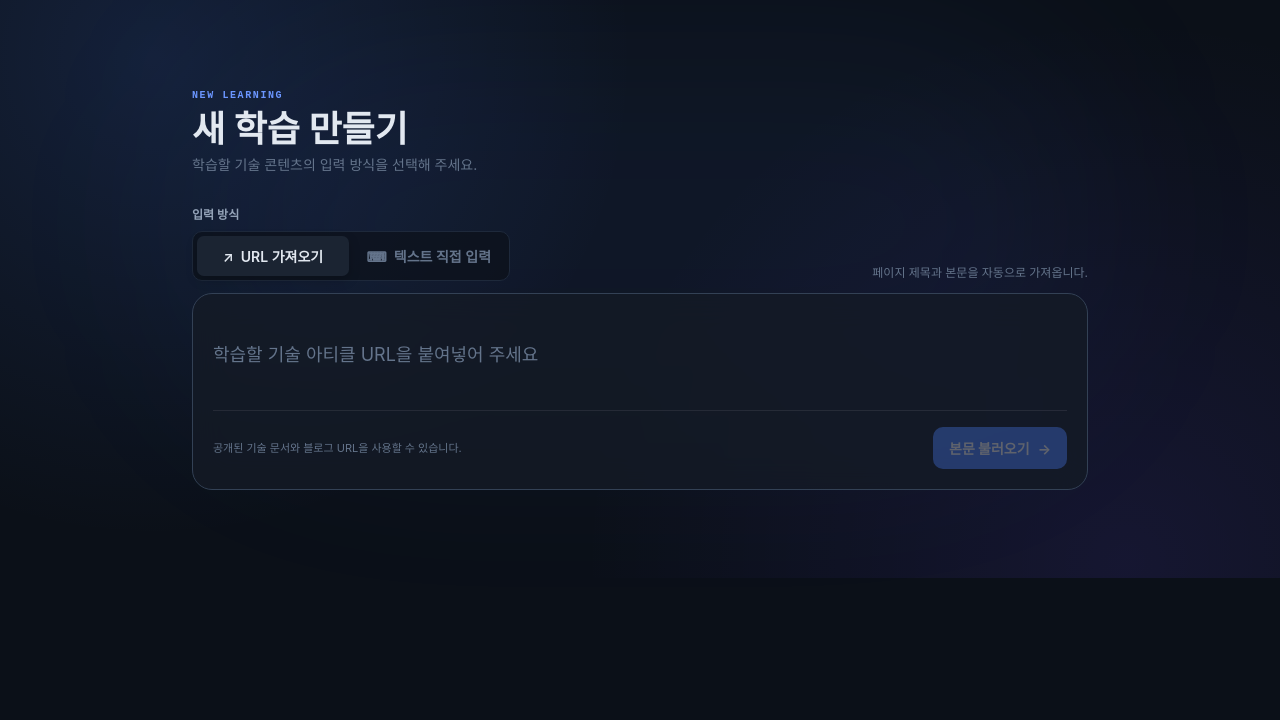
Test case: HomePage › URL 추출 동작 통합 테스트 › 유효한 URL을 입력하고 제출하면 같은 탭에서 폼이 확장되고 내용이 주입된다
URL 입력란 찾기
Type "https://example.com/article" into the field labelled "기술 아티클 URL".
click(640, 354); type("https://example.com/article")  # box 213,314 -> 1067,394
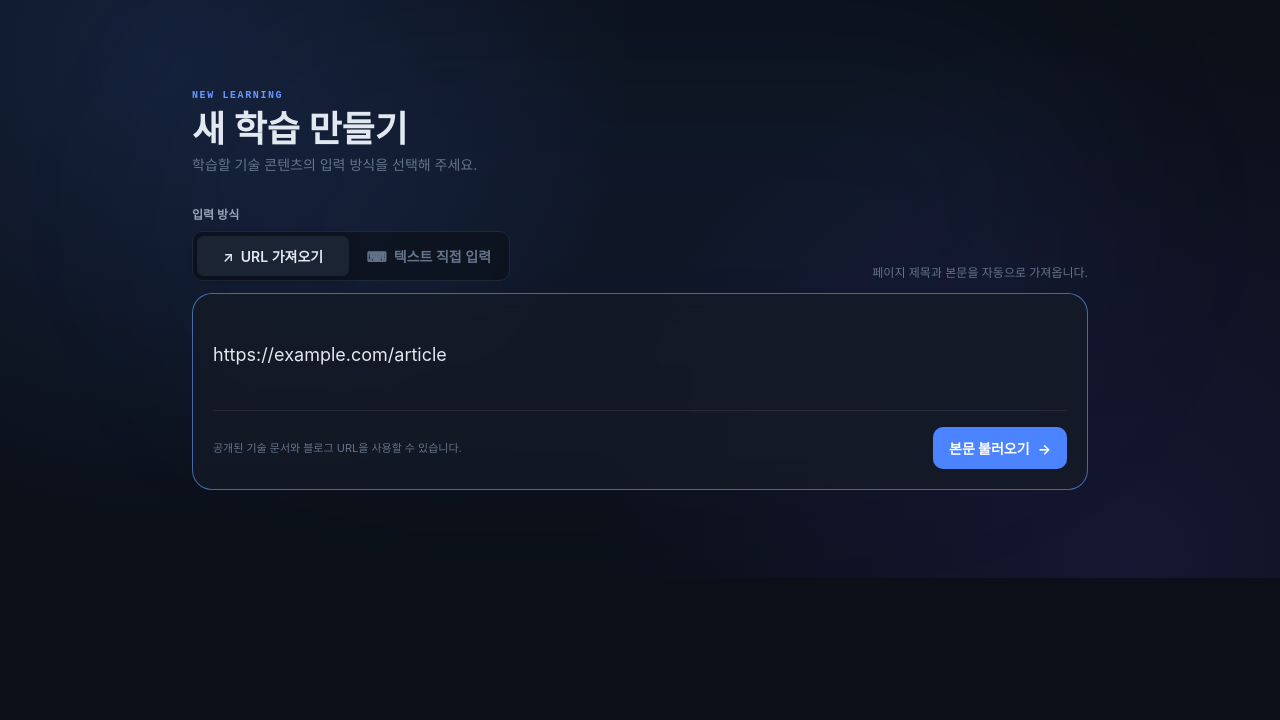
Click the button "본문 불러오기 →".
click(1000, 448)  # box 933,427 -> 1067,469
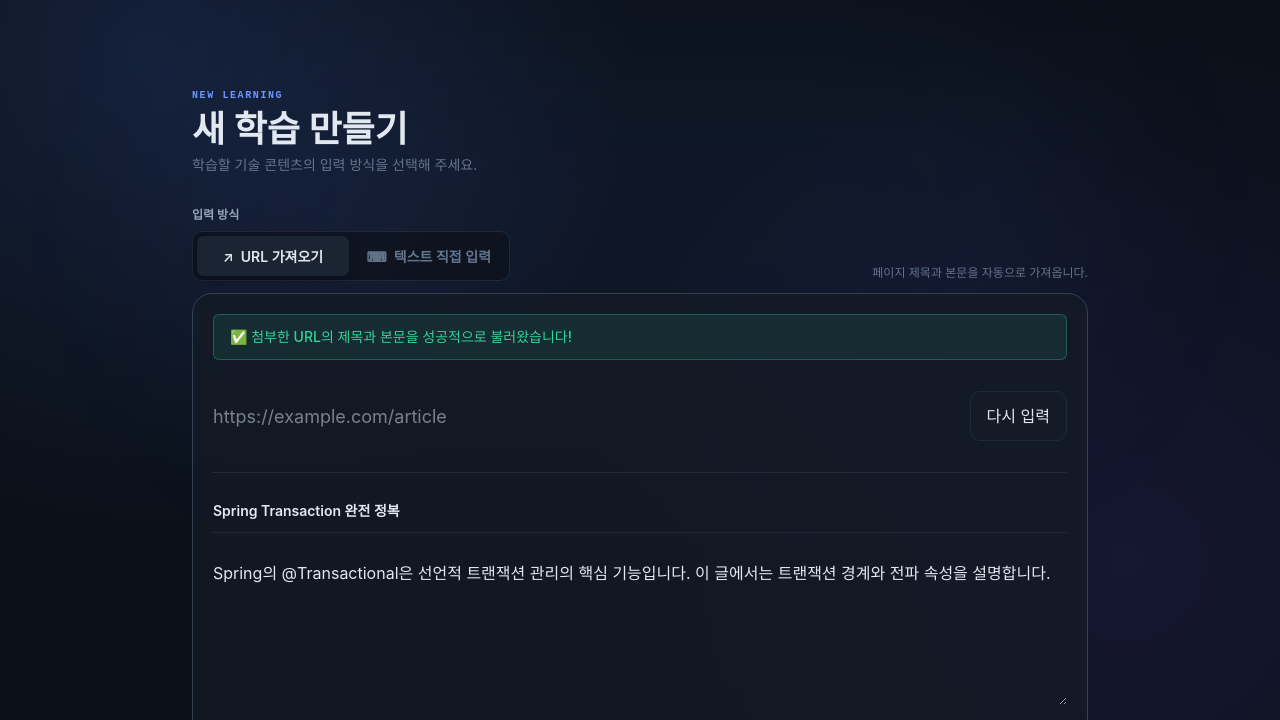
expect the text "✅ 첨부한 URL의 제목과 본문을 성공적으로 불러왔습니다!" is shown: met, box 213,314 -> 1067,360
expect the 2nd field named "콘텐츠 제목" holds "Spring Transaction 완전 정복": met, box 213,489 -> 1067,533
expect the text box named "학습할 본문" holds "Spring의 @Transactional은 선언적 트랜잭션 관리의 핵심 기능입니다. 이 글에서는 트랜잭션 경계와 전파 속성을 설명합니다.": met, box 213,545 -> 1067,705
다시 입력 버튼 동작 확인
Click the button "다시 입력".
click(1018, 416)  # box 970,391 -> 1067,441
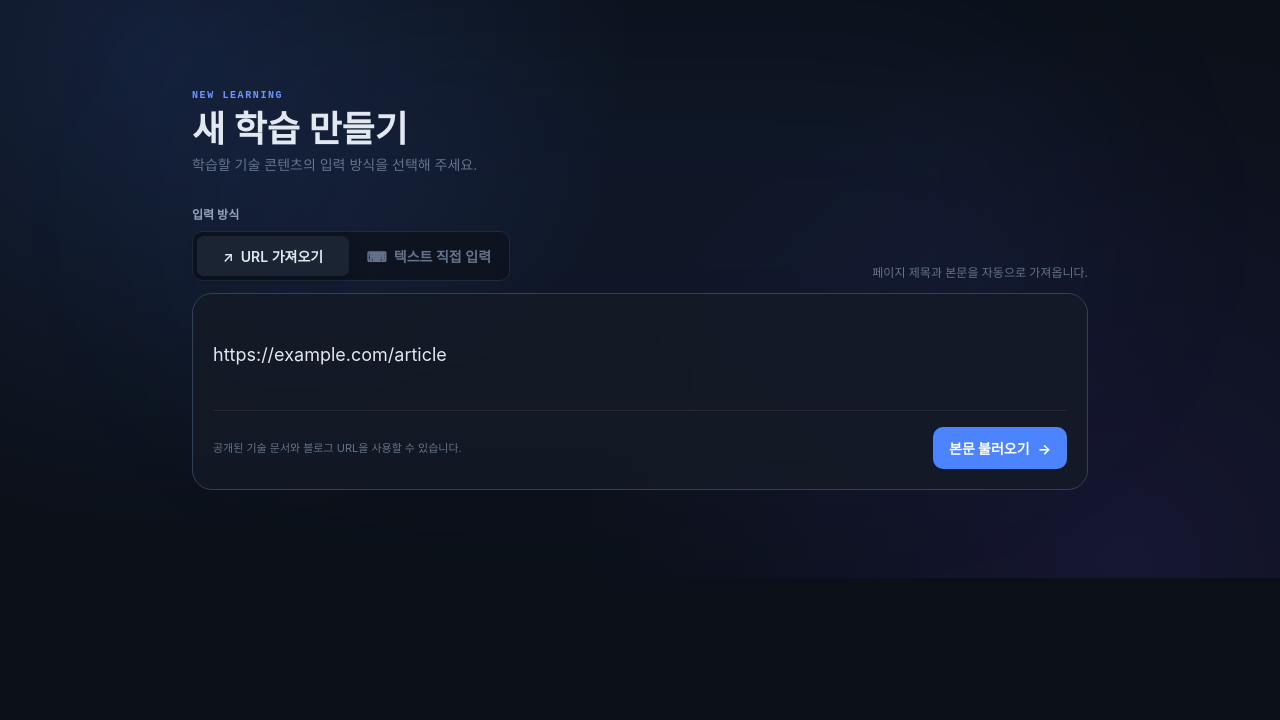
expect the field named "기술 아티클 URL" is enabled: met, box 213,314 -> 1067,394
expect the text "성공적으로 불러왔습니다" is gone: met
expect the button "본문 불러오기 →" is shown: met, box 933,427 -> 1067,469
